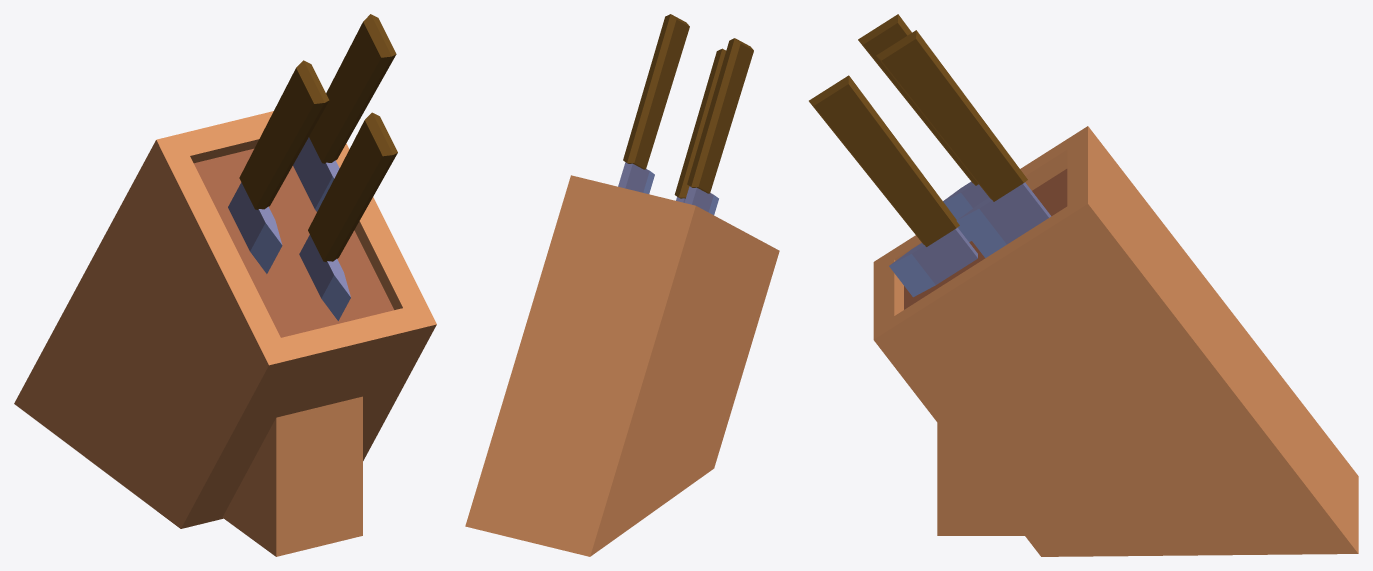
Rendered from knife-block.fbx.
The picture shows the model from 3 angles, left to right: view 1: azimuth 30°, elevation 25°; view 2: azimuth 150°, elevation 25°; view 3: azimuth 270°, elevation 25°; orthographic projection. The views are drawn at different scales.
Parts seen in each view (by area): view 1: Cube.001, Cube, Cube.007, Cube.003, Cube.004, Cube.006, Cube.002, Cube.005; view 2: Cube.001, Cube.007, Cube.004, Cube.003, Cube.005, Cube.006; view 3: Cube.001, Cube.003, Cube.004, Cube, Cube.005, Cube.002, Cube.007, Cube.006.
Boxes of the visible parts, x1,y1,x2,y2 form: Cube.001: (14,111,436,528); Cube: (222,396,362,556); Cube.007: (239,60,329,209); Cube.003: (308,112,397,262); Cube.004: (309,14,396,163); Cube.006: (228,182,282,273); Cube.002: (299,235,350,320); Cube.005: (293,137,339,211); Cube.001: (465,175,779,556); Cube.007: (687,38,753,193); Cube.004: (623,14,689,169); Cube.003: (674,48,725,198); Cube.005: (618,162,654,193); Cube.006: (684,186,718,215); Cube.001: (873,126,1358,556); Cube.003: (809,75,959,246); Cube.004: (876,30,1027,201); Cube: (937,423,1024,535); Cube.005: (956,182,1051,257); Cube.002: (889,227,977,297); Cube.007: (858,14,978,185); Cube.006: (943,181,989,241).
Bounding box in the file's own units: 110 × 332 × 327.
